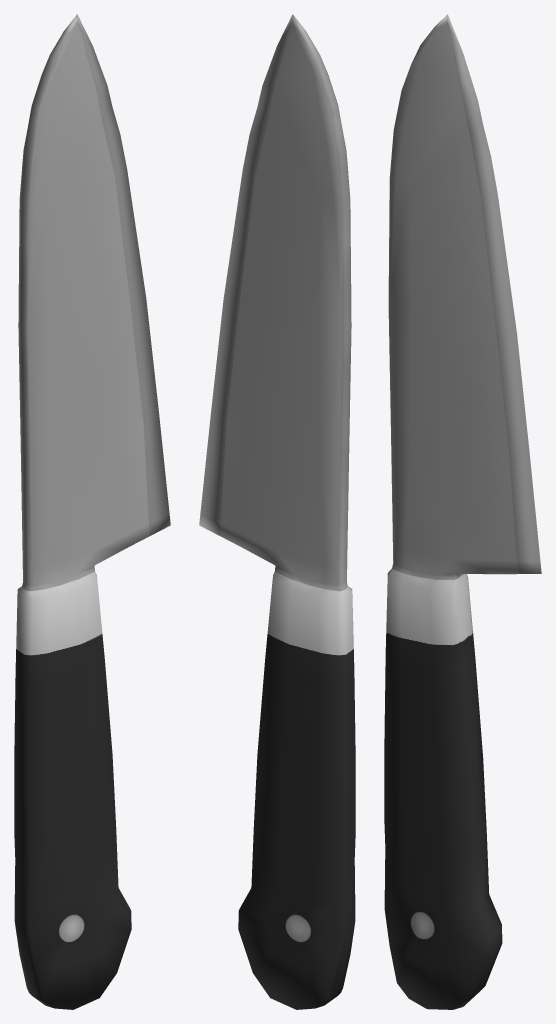
Rendered from knife.FBX.
3 views of the same model, side by side, from view 1: azimuth 30°, elevation 25°; view 2: azimuth 150°, elevation 25°; view 3: azimuth 330°, elevation 25° (orthographic).
Visible parts, largest first — view 1: knife; view 2: knife; view 3: knife.
Boxes of the visible parts, <box> form: knife: <box>14,14,170,1009</box>; knife: <box>199,14,355,1009</box>; knife: <box>384,14,541,1009</box>.
Bounding box in the file's own units: 4.72 × 29.46 × 1.12.
